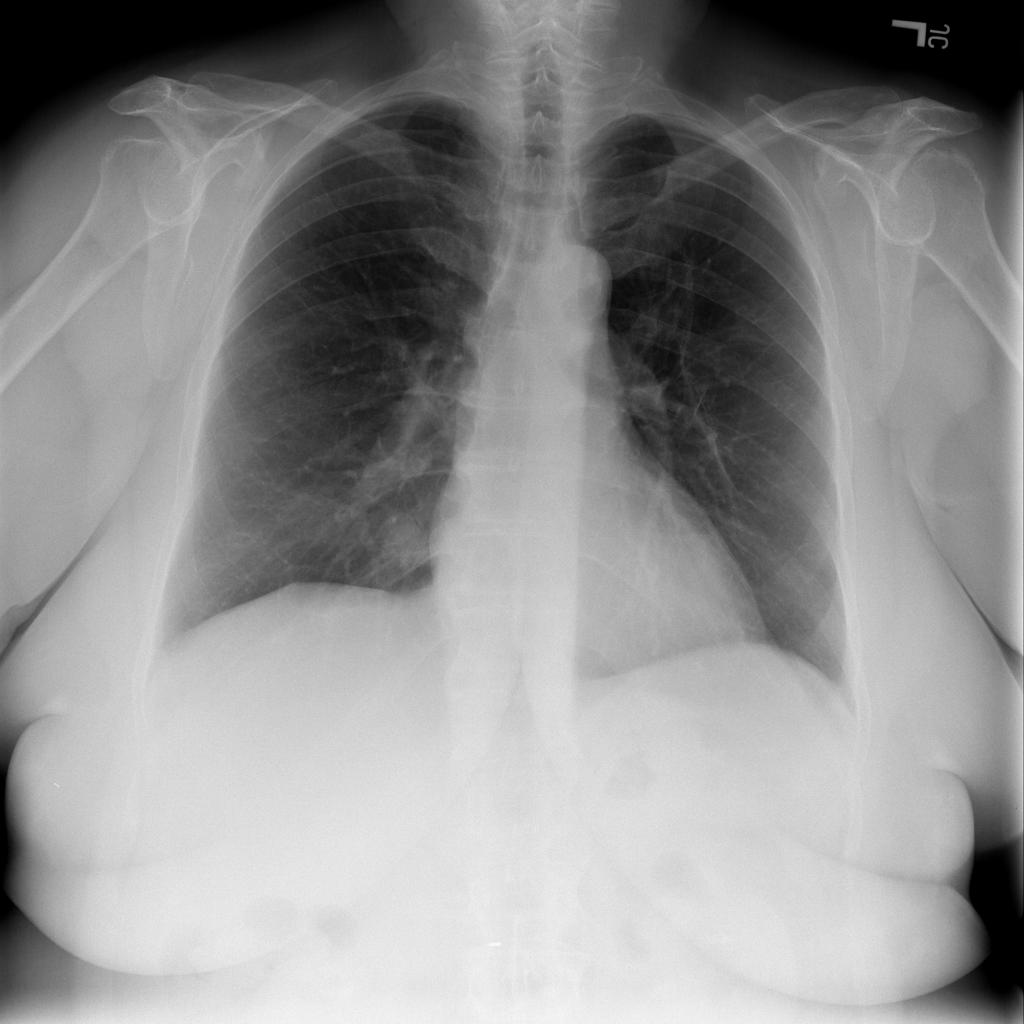nodule: (364, 504, 446, 580)
